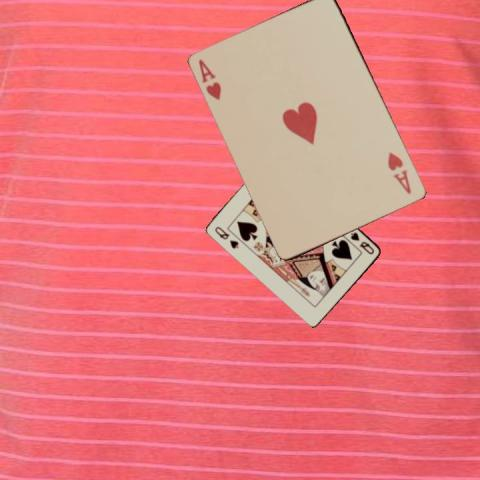Ah: (385, 149, 413, 196), (196, 57, 223, 102)
Qs: (348, 229, 376, 256), (212, 223, 240, 250)
